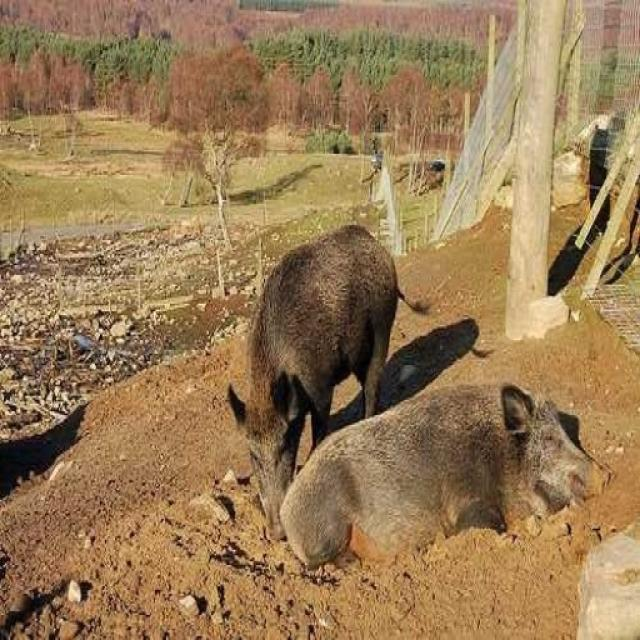pig: (306, 346, 639, 575), (220, 162, 436, 477)
